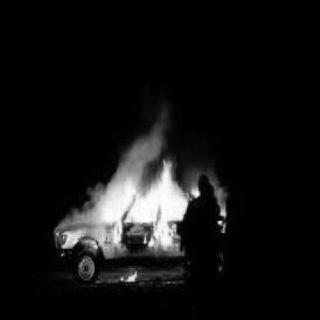Fire: (70, 132, 232, 255)
